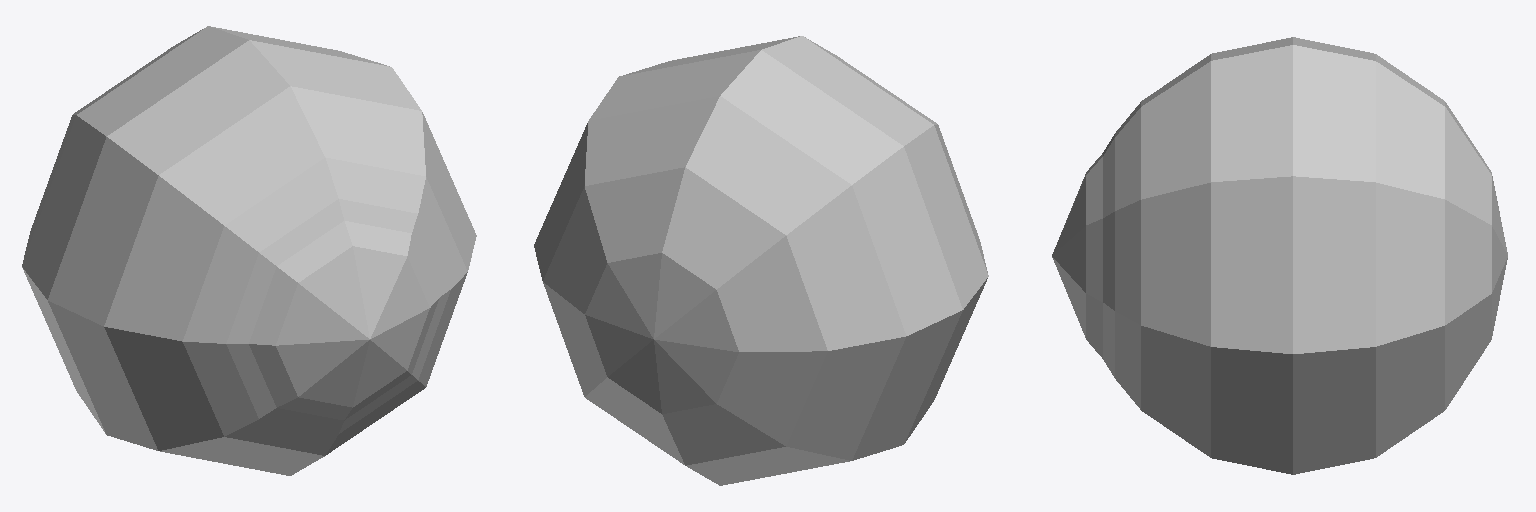
File: Realistic Eye.obj
3 renders of one model, left to right at view 1: azimuth 30°, elevation 25°; view 2: azimuth 150°, elevation 25°; view 3: azimuth 270°, elevation 25°, orthographic.
Bounding box in the file's own units: 3.41 × 3.41 × 3.34.